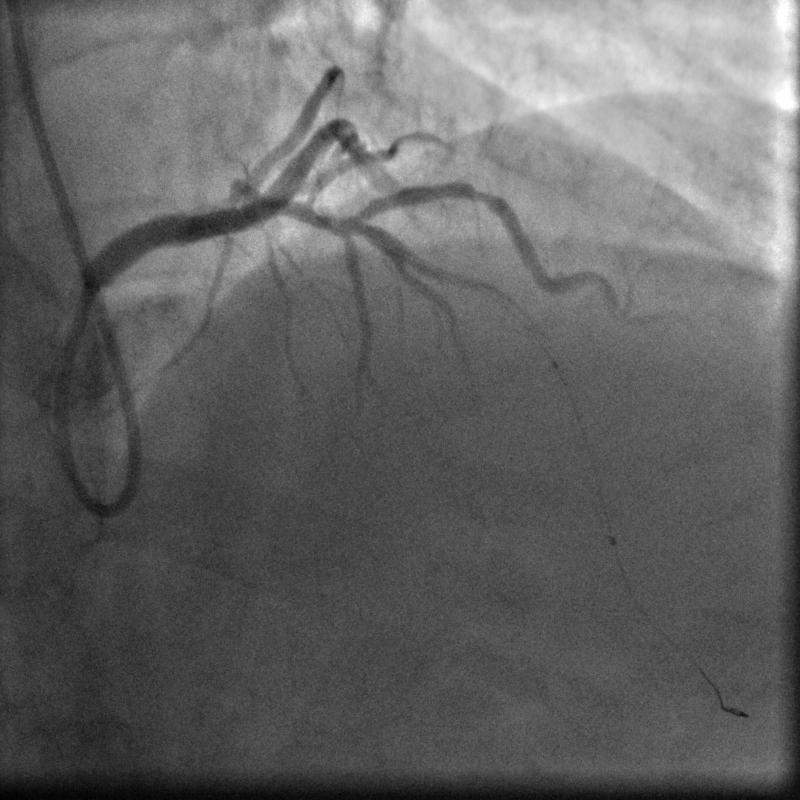Stenosis: (462, 175, 500, 220)
